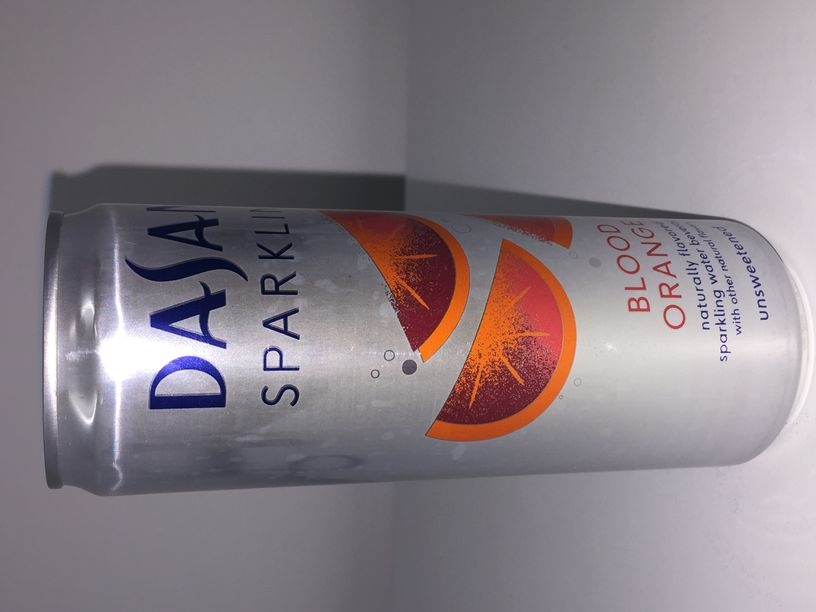blood_orange: (39, 201, 804, 501)
